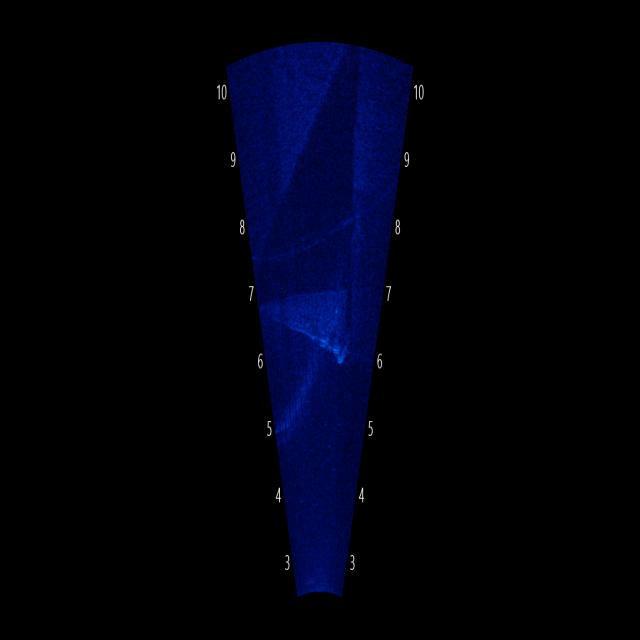triangle: (266, 267, 356, 374)
